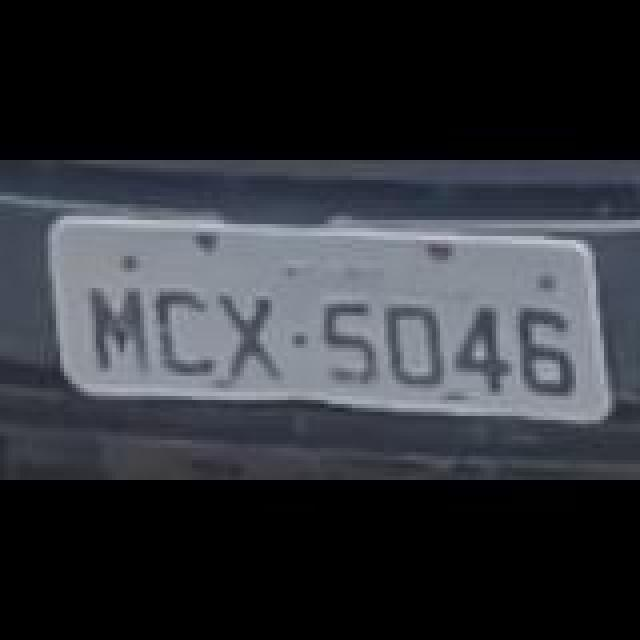4: (452, 304, 516, 392)
5: (318, 302, 386, 386)
6: (510, 308, 578, 396)
C: (150, 292, 218, 380)
D: (382, 306, 450, 390)
M: (88, 288, 152, 376)
X: (216, 292, 288, 380)
